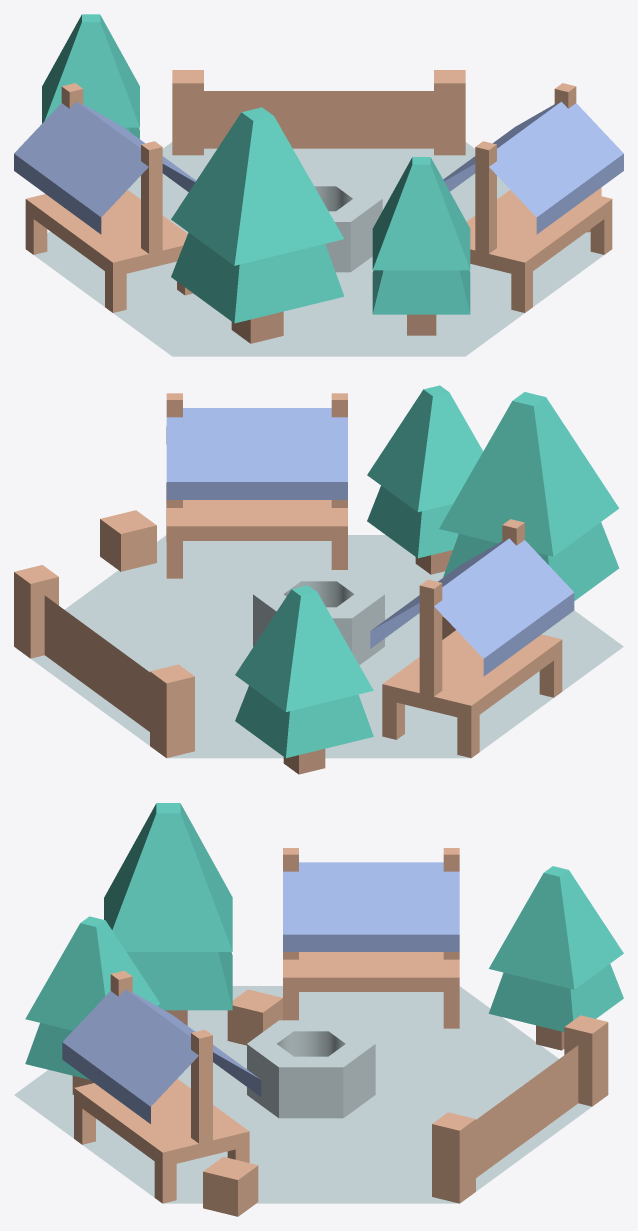
Rendered from market.fbx.
The picture shows the model from 3 angles, top to bottom: view 1: azimuth 30°, elevation 25°; view 2: azimuth 150°, elevation 25°; view 3: azimuth 270°, elevation 25°; orthographic projection. The views are drawn at different scales.
Parts seen in each view (by area): view 1: building_market, tree, stall.001, stall, fence, tree.002, tree.001, well; view 2: building_market, stall, stall.001, tree, tree.001, fence, tree.002, well, crate; view 3: building_market, stall.001, stall, tree, tree.001, fence, well, tree.002, crate, crate.001.
Part boxes in pixels (x1,y1,x2,y2): building_market: (34,142,603,356); tree: (171,107,344,343); stall.001: (14,83,195,312); stall: (443,83,623,312); fence: (172,70,465,155); tree.002: (372,157,470,335); tree.001: (42,14,139,138); well: (308,175,382,272); building_market: (31,535,623,758); stall: (166,393,347,578); stall.001: (370,519,574,758); tree: (439,392,619,600); tree.001: (235,585,373,774); fence: (14,565,194,758); tree.002: (367,385,482,574); well: (253,570,384,664); crate: (100,510,156,571); building_market: (14,986,591,1203); stall.001: (283,848,459,1028); stall: (62,970,261,1203); tree: (104,803,232,1025); tree.001: (488,866,623,1050); fence: (432,1015,608,1203); well: (247,1020,375,1118); tree.002: (25,916,160,1094); crate: (203,1157,258,1216); crate.001: (227,989,282,1045).
Size of the model in its own units: 9.48 by 3.8 by 8.7.
